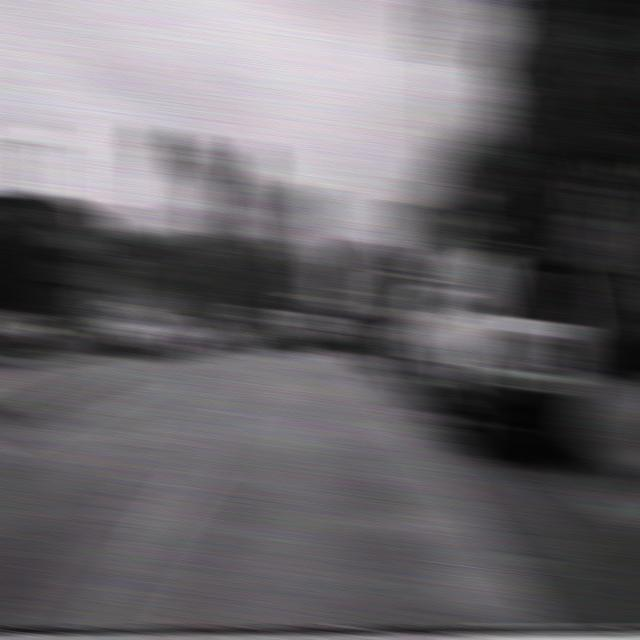speedLimit35: (427, 170, 465, 214), (186, 234, 218, 268)
